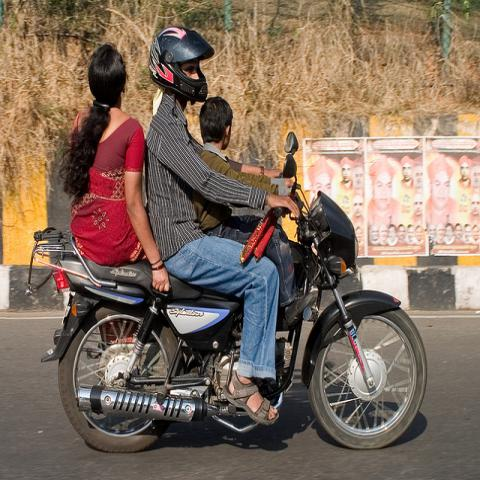motorcycle: (24, 132, 428, 454)
